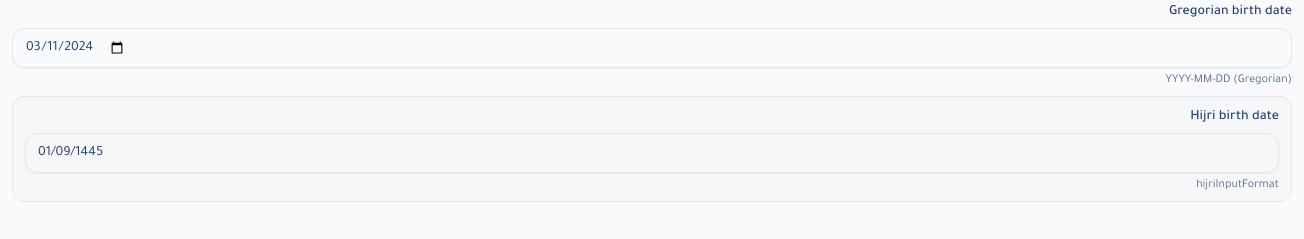
Scenario: TeacherBirthDate shared field and display › keeps an invalid or incomplete Hijri draft visible and propagates invalidity
Replace the text in the field labelled "Hijri birth date" with "31/09/": (652, 153) [25,133,1279,173]
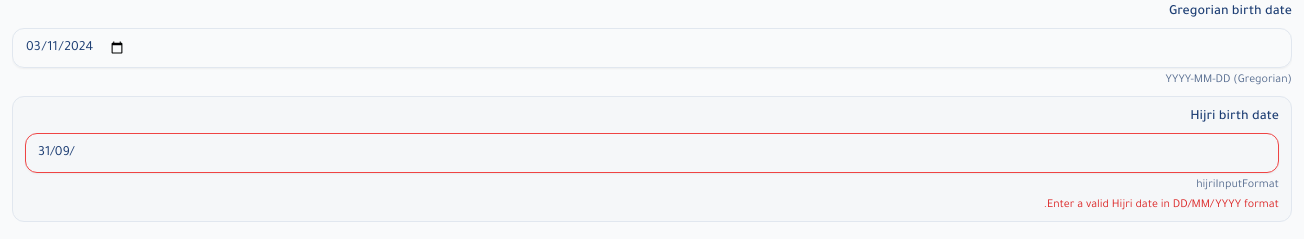
Now the message shows "Enter a valid Hijri date", box [1044,199,1279,211]
